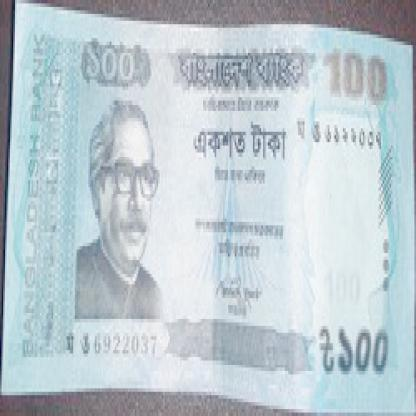one hundred taka: (321, 38, 391, 104), (80, 35, 143, 94), (335, 319, 394, 381)
